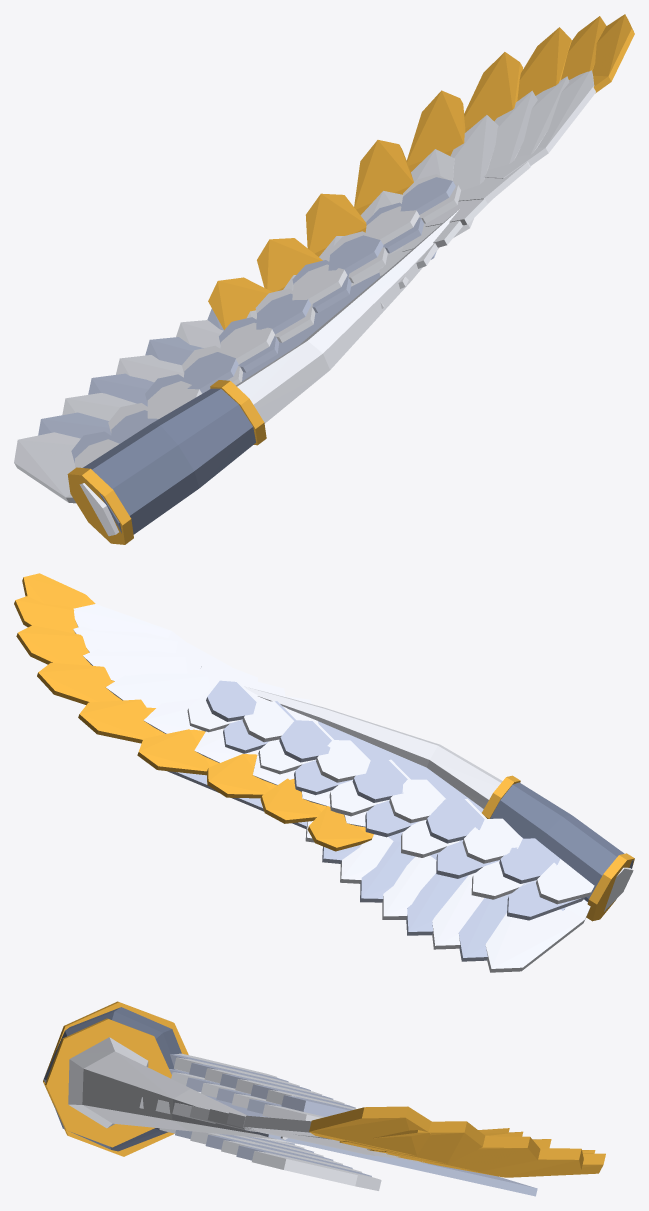
File: BossSteedWing.obj
The picture shows the model from 3 angles, top to bottom: view 1: azimuth 30°, elevation 25°; view 2: azimuth 150°, elevation 25°; view 3: azimuth 270°, elevation 25°; orthographic projection. The views are drawn at different scales.
Parts seen in each view (by area): view 1: BossSteedWing; view 2: BossSteedWing; view 3: BossSteedWing.
Part boxes in pixels (<box>): BossSteedWing: <box>14,14,634,544</box>; BossSteedWing: <box>14,573,634,972</box>; BossSteedWing: <box>43,1001,605,1196</box>.
Bounding box in the file's own units: 7.47 × 3.63 × 3.42.
